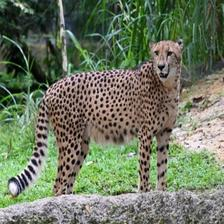Cheetah: (7, 38, 183, 206)
